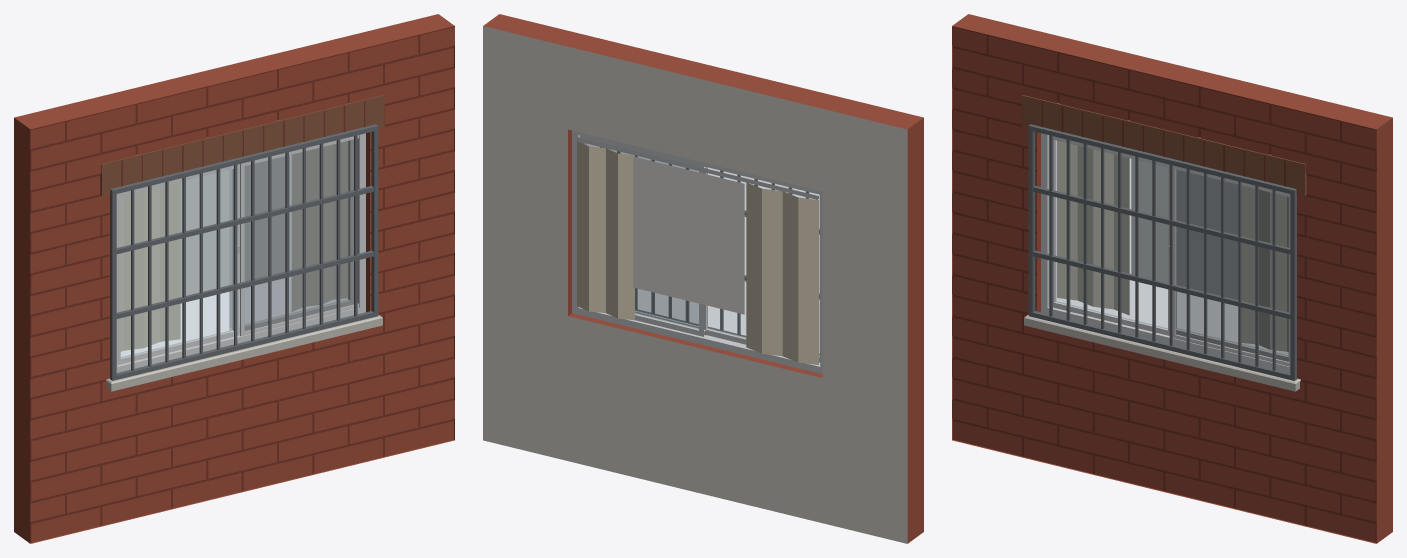
Rendered from SC_Bld_Villa_Wall_Brick_Window_3m.gltf.
3 views of the same model, side by side, from view 1: azimuth 30°, elevation 25°; view 2: azimuth 150°, elevation 25°; view 3: azimuth 330°, elevation 25° (orthographic).
Visible parts, largest first — view 1: SC_Bld_Villa_Wall_Brick_Window_3m; view 2: SC_Bld_Villa_Wall_Brick_Window_3m; view 3: SC_Bld_Villa_Wall_Brick_Window_3m.
Part boxes in pixels (x1=…): SC_Bld_Villa_Wall_Brick_Window_3m: x1=14, y1=14, x2=454, y2=543; SC_Bld_Villa_Wall_Brick_Window_3m: x1=483, y1=14, x2=923, y2=543; SC_Bld_Villa_Wall_Brick_Window_3m: x1=952, y1=14, x2=1392, y2=543.
Size of the model in its own units: 3 by 2.8 by 0.255.
2 materials, 2 textured.
